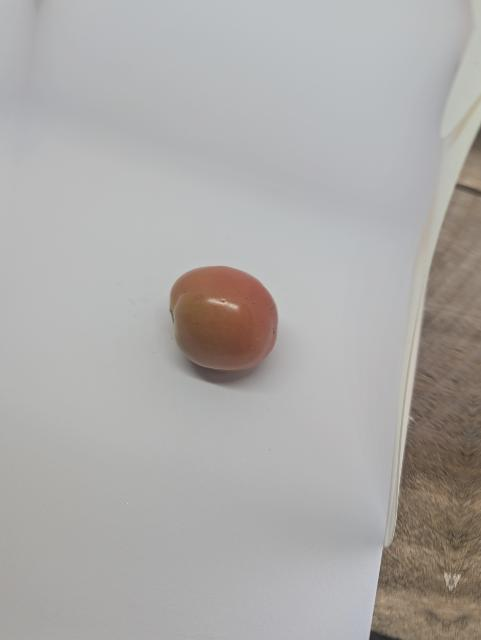turning: (164, 260, 289, 376)
